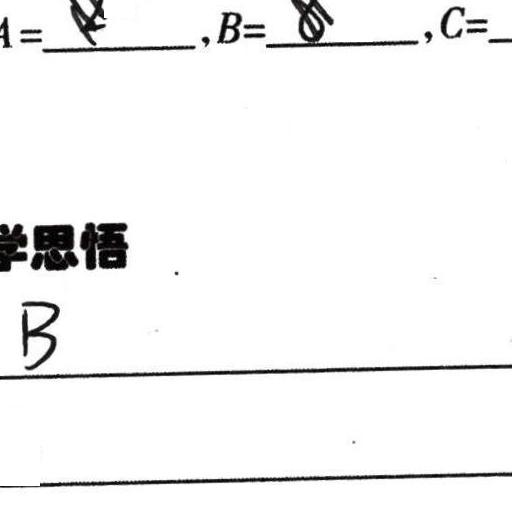ans: (16, 297, 61, 372)
